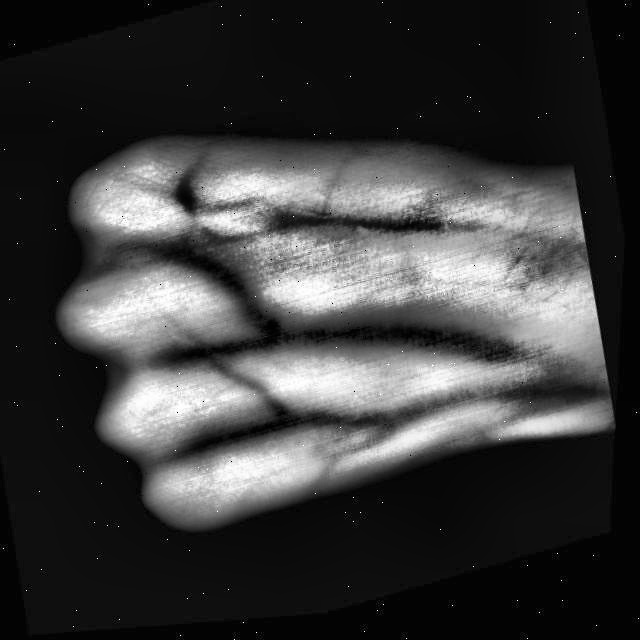Vein: (288, 308, 514, 372)
